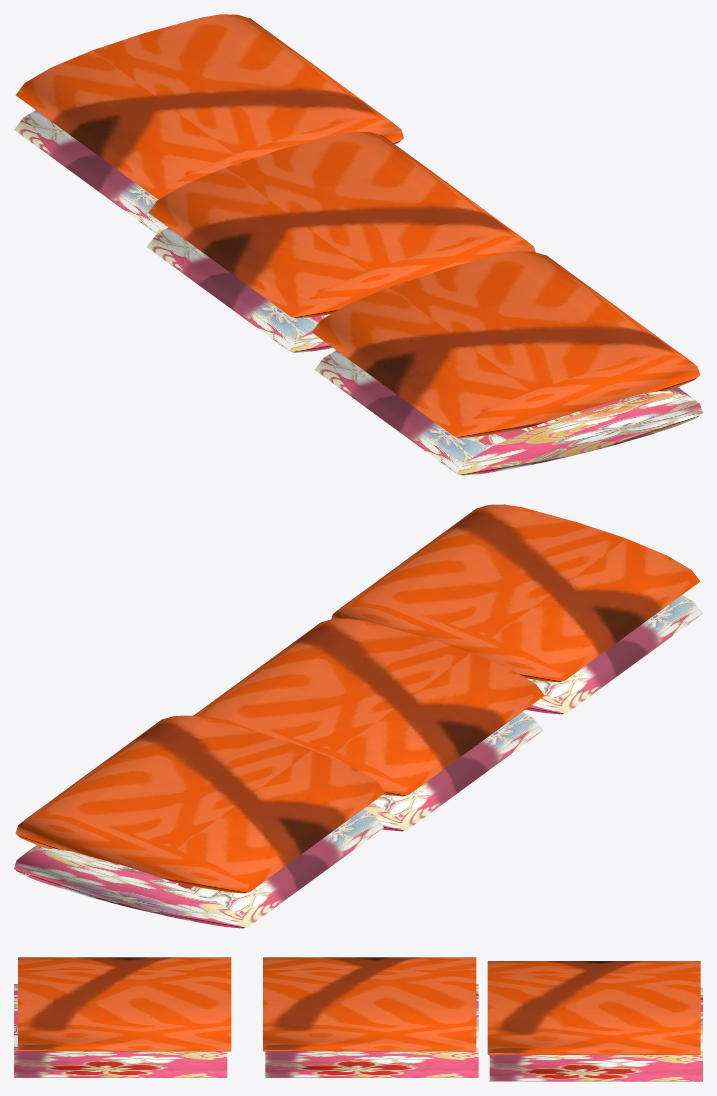
The model's file is wahuku.fbx.
3 renders of one model, top to bottom at view 1: azimuth 30°, elevation 25°; view 2: azimuth 150°, elevation 25°; view 3: azimuth 270°, elevation 25°, orthographic. The views are drawn at different scales.
Parts seen in each view (by area): view 1: 立方体.002, 立方体.004, 立方体, 立方体.003, 立方体.005, 立方体.001; view 2: 立方体, 立方体.002, 立方体.004, 立方体.001, 立方体.005, 立方体.003; view 3: 立方体.002, 立方体.004, 立方体, 立方体.003, 立方体.001, 立方体.005.
Part boxes in pixels (box(x1,y1,x2,y2)): 立方体.002: box(312, 251, 699, 437); 立方体.004: box(148, 131, 535, 318); 立方体: box(16, 14, 403, 199); 立方体.003: box(314, 350, 702, 475); 立方体.005: box(147, 227, 332, 352); 立方体.001: box(14, 110, 168, 233); 立方体: box(15, 715, 385, 893); 立方体.002: box(331, 504, 699, 682); 立方体.004: box(193, 618, 544, 796); 立方体.001: box(14, 809, 383, 928); 立方体.005: box(364, 712, 542, 831); 立方体.003: box(525, 595, 702, 714); 立方体.002: box(18, 957, 231, 1051); 立方体.004: box(263, 957, 476, 1051); 立方体: box(487, 961, 700, 1054); 立方体.003: box(14, 984, 227, 1077); 立方体.001: box(489, 987, 702, 1081); 立方体.005: box(265, 984, 478, 1077).
Bounding box in the file's own units: 214 × 63.46 × 646.
2 materials, 2 textured.
